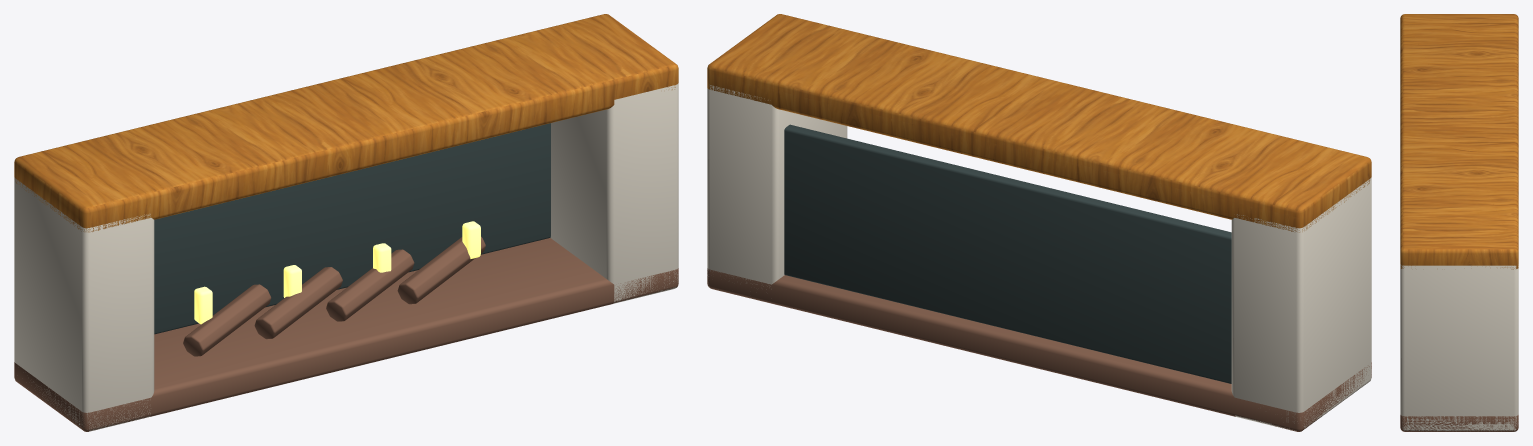
Rendered from linear-fireplace.glb.
3 renders of one model, left to right at view 1: azimuth 30°, elevation 25°; view 2: azimuth 150°, elevation 25°; view 3: azimuth 270°, elevation 25°, orthographic. The views are drawn at different scales.
Parts seen in each view (by area): view 1: linear-fireplace; view 2: linear-fireplace; view 3: linear-fireplace.
Part boxes in pixels (left/top/right/bottom): linear-fireplace: left=14, top=14, right=678, bottom=431; linear-fireplace: left=707, top=14, right=1371, bottom=431; linear-fireplace: left=1400, top=14, right=1518, bottom=431.
Bounding box in the file's own units: 1.8 × 0.65 × 0.38.
Materials: 5 (1 with a texture image).
